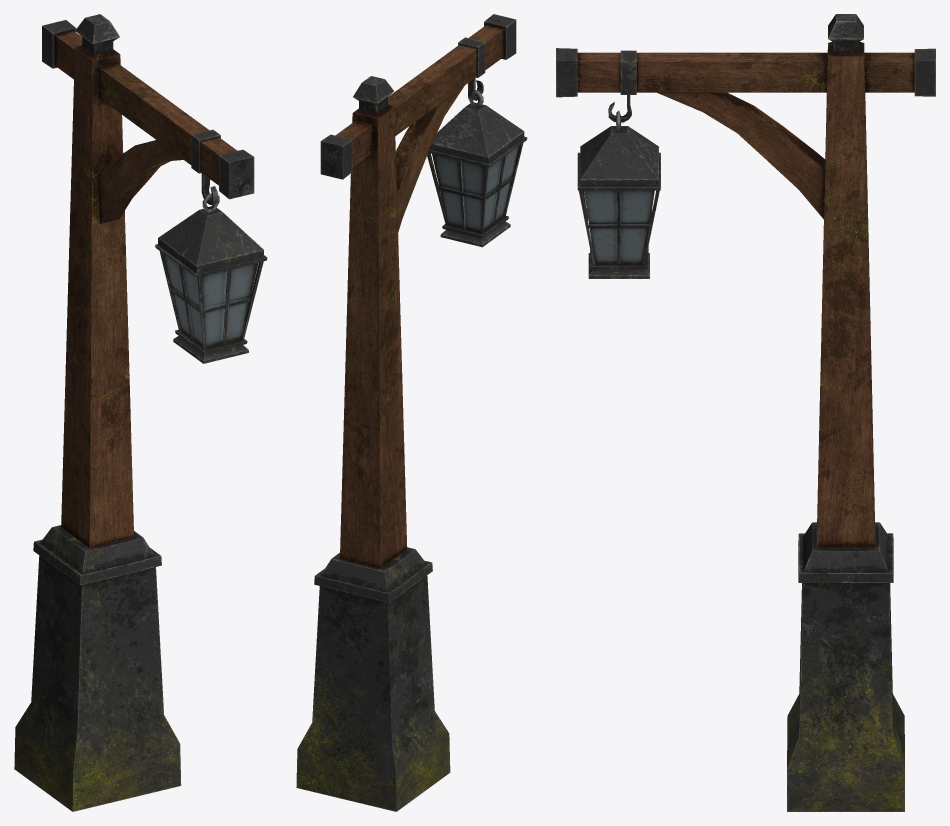
File: simple_medieval_lamp.glb
The picture shows the model from 3 angles, left to right: view 1: azimuth 30°, elevation 25°; view 2: azimuth 150°, elevation 25°; view 3: azimuth 270°, elevation 25°; orthographic projection. The views are drawn at different scales.
Visible parts, largest first — view 1: E9_Lamp; view 2: E9_Lamp; view 3: E9_Lamp.
Boxes of the visible parts, bbox=[...] form: E9_Lamp: bbox=[14, 14, 267, 811]; E9_Lamp: bbox=[296, 14, 527, 811]; E9_Lamp: bbox=[556, 14, 935, 811].
Bounding box in the file's own units: 0.2993 × 2 × 0.8973.
1 material, 1 textured.
